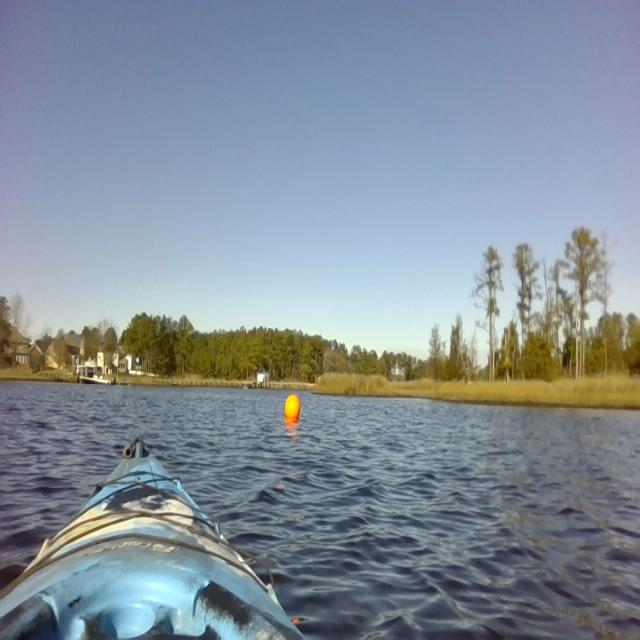Buoy: (283, 388, 303, 427)
